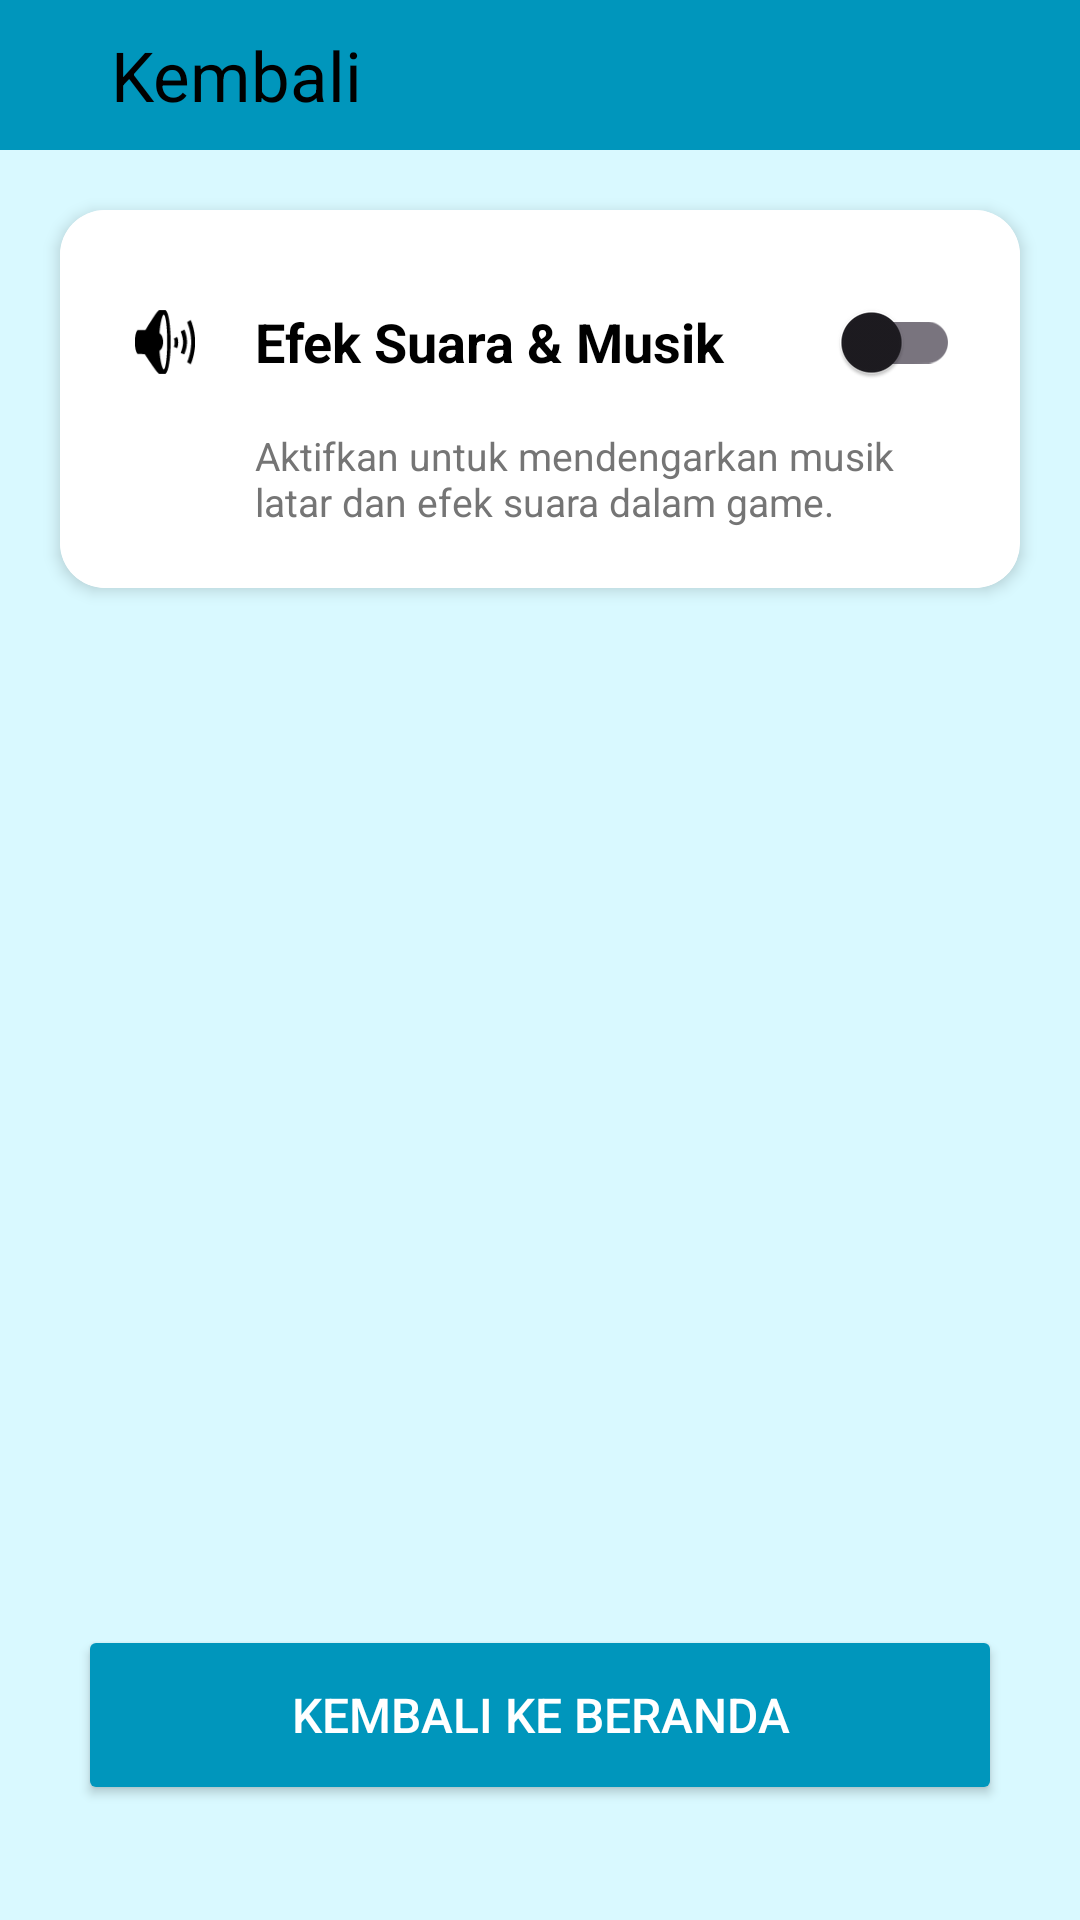

Icons on this 1080w x 1920h Android screen, each with its box as Rect(x1, y1, x2, y2):
lock silent mode off: Rect(135, 310, 195, 374)
